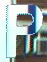Parking: (2, 3, 45, 59)
